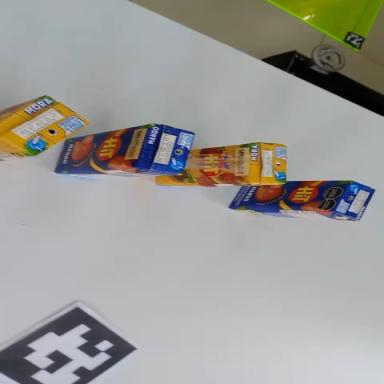HIT-MANGO: (55, 123, 195, 178), (229, 179, 375, 221)
HIT-MORA: (0, 90, 92, 160), (157, 142, 286, 186)
cara_F: (52, 124, 153, 173), (227, 179, 350, 212), (155, 143, 251, 185), (0, 96, 49, 121)
